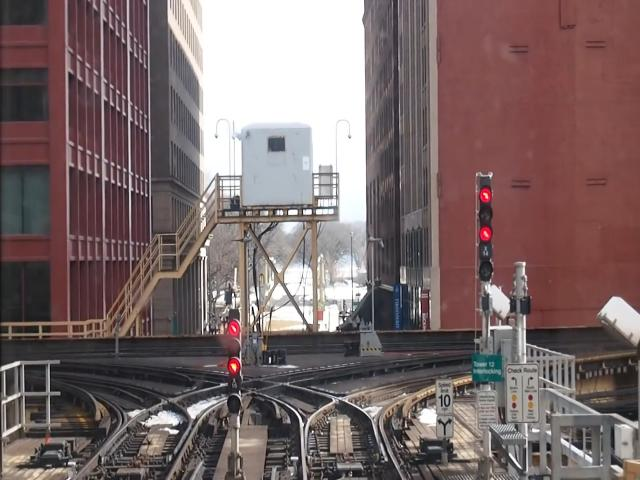signal light: (476, 173, 496, 287), (227, 308, 245, 418)
